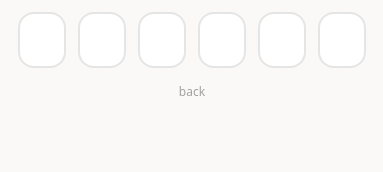
Test: OtpInput › clears all inputs and focuses first on clear click
This screenshot has width=383, height=172.
Step 1. Type "1" into the field with test id "otp-input-0" → (42, 40), box [18,12,66,68]
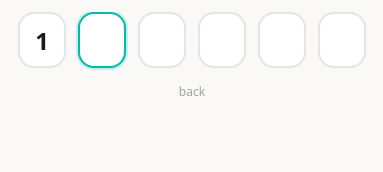
Step 2. Type "2" into the field with test id "otp-input-1" → (102, 40), box [78,12,126,68]
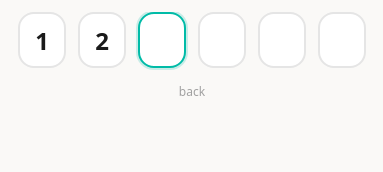
Step 3. Type "3" into the field with test id "otp-input-2" → (162, 40), box [138,12,186,68]
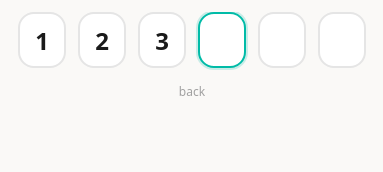
Step 4. Click the button with test id "otp-clear" → (192, 92), box [179,84,205,100]
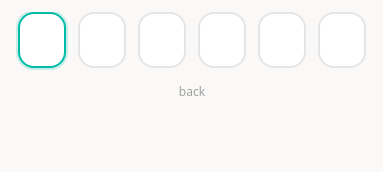
Result: the field with test id "otp-input-0" is empty at [18,12,66,68]
Result: the field with test id "otp-input-1" is empty at [78,12,126,68]
Result: the field with test id "otp-input-2" is empty at [138,12,186,68]
